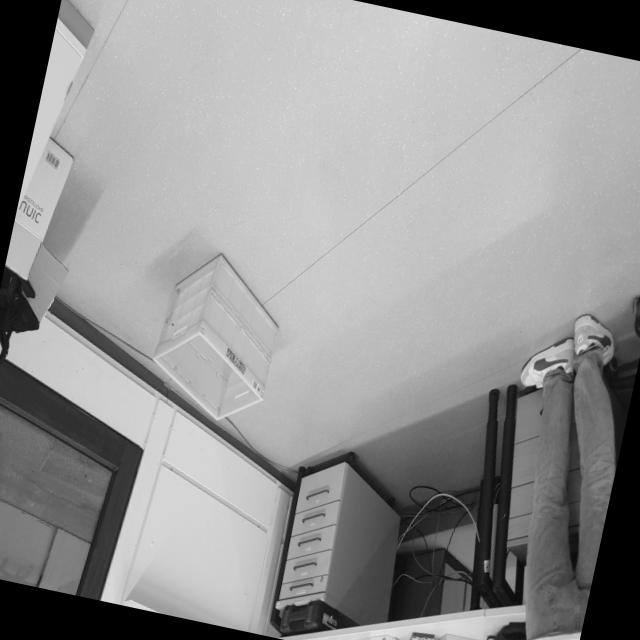box: (130, 219, 308, 440)
